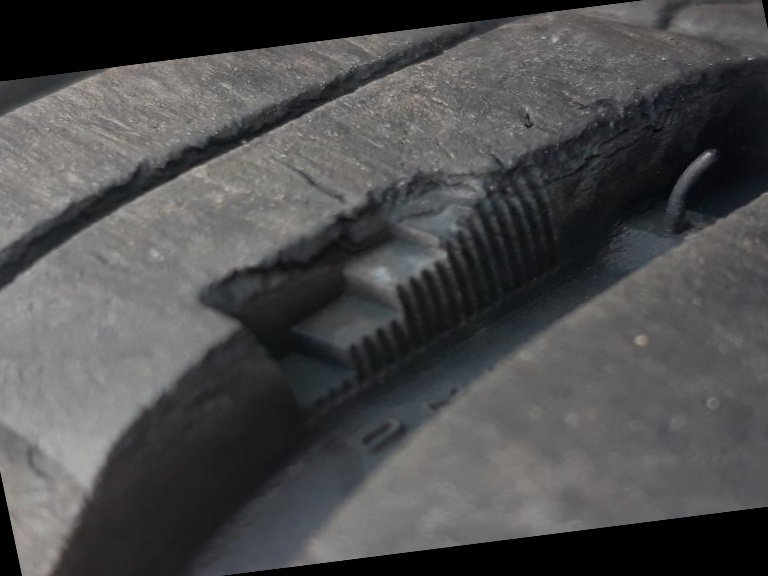temoin:80: (152, 123, 610, 448)
